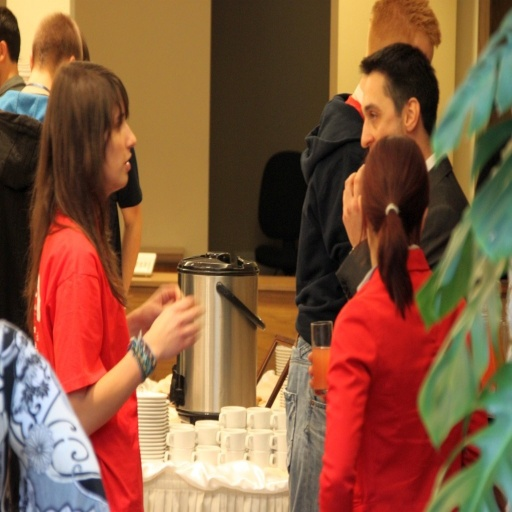hand: (129, 286, 205, 381), (339, 160, 366, 248), (140, 281, 185, 332), (306, 350, 328, 401)
